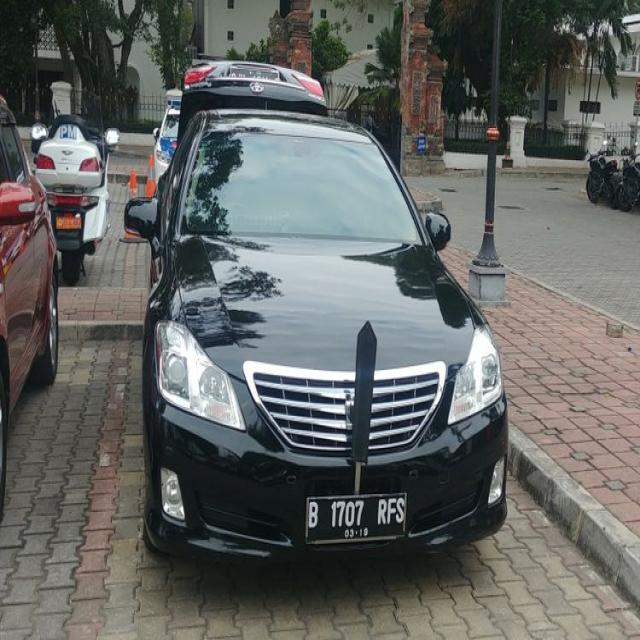plate: (304, 497, 407, 538)
